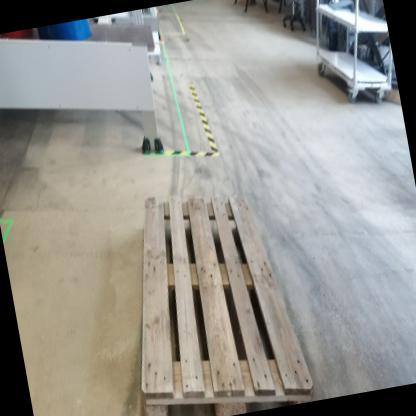BoxFace: (138, 187, 320, 416)
